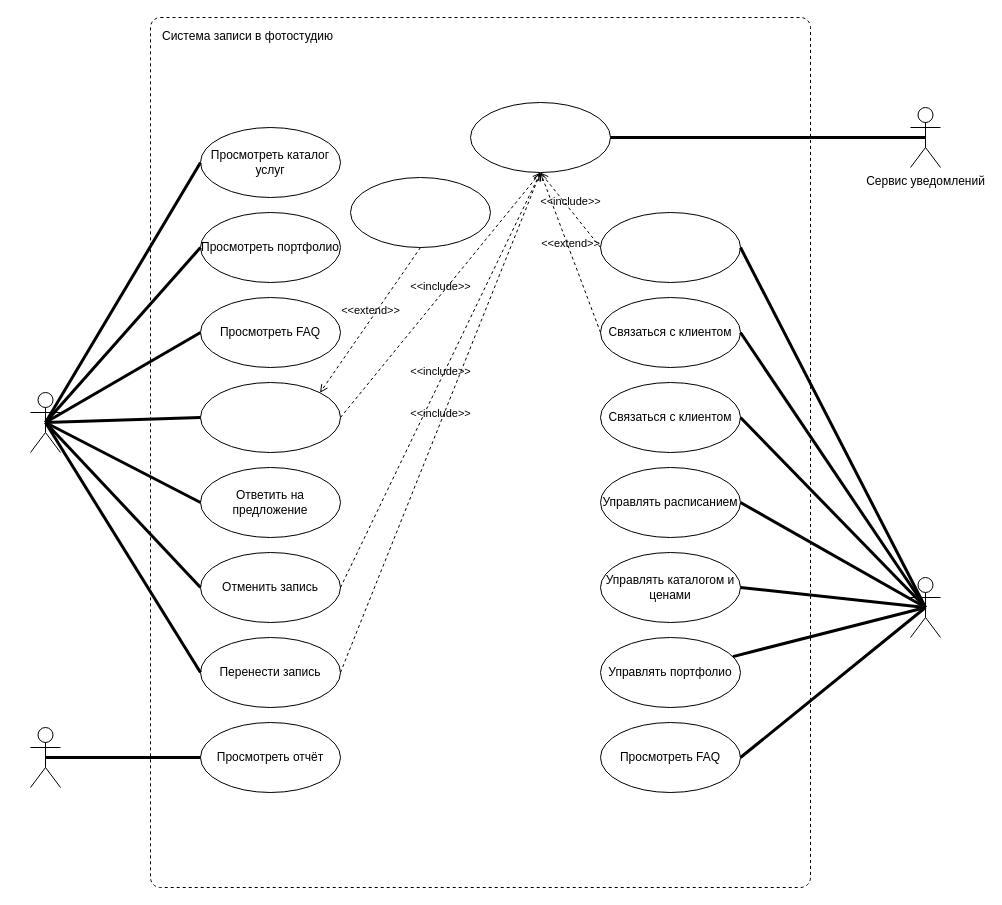
The diagram is 1002 pixels wide and 905 high, and some of its shapes have lost their labels. Here are the shapes that lost their labels. From the top down, the box of each, then its label:
(470, 102, 610, 172): Отправить уведомление
(350, 176, 490, 248): Указать пожелания
(600, 212, 740, 282): Обработать запись с пожеланиями
(30, 392, 60, 452): Клиент
(200, 382, 340, 452): Записаться на съёмку
(910, 576, 940, 638): Администратор
(30, 726, 60, 788): Владелец
